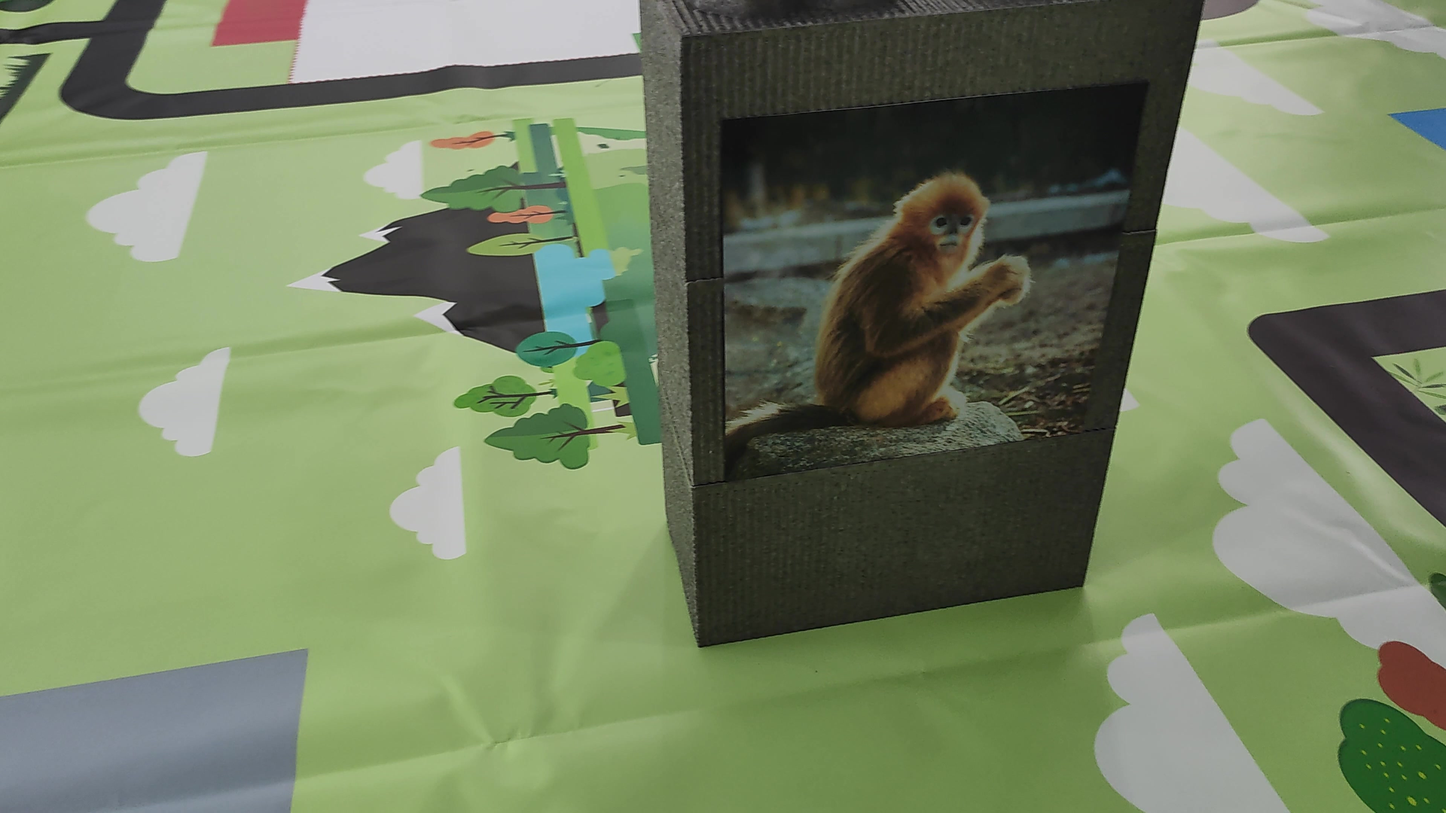monkey: (762, 134, 1038, 431)
